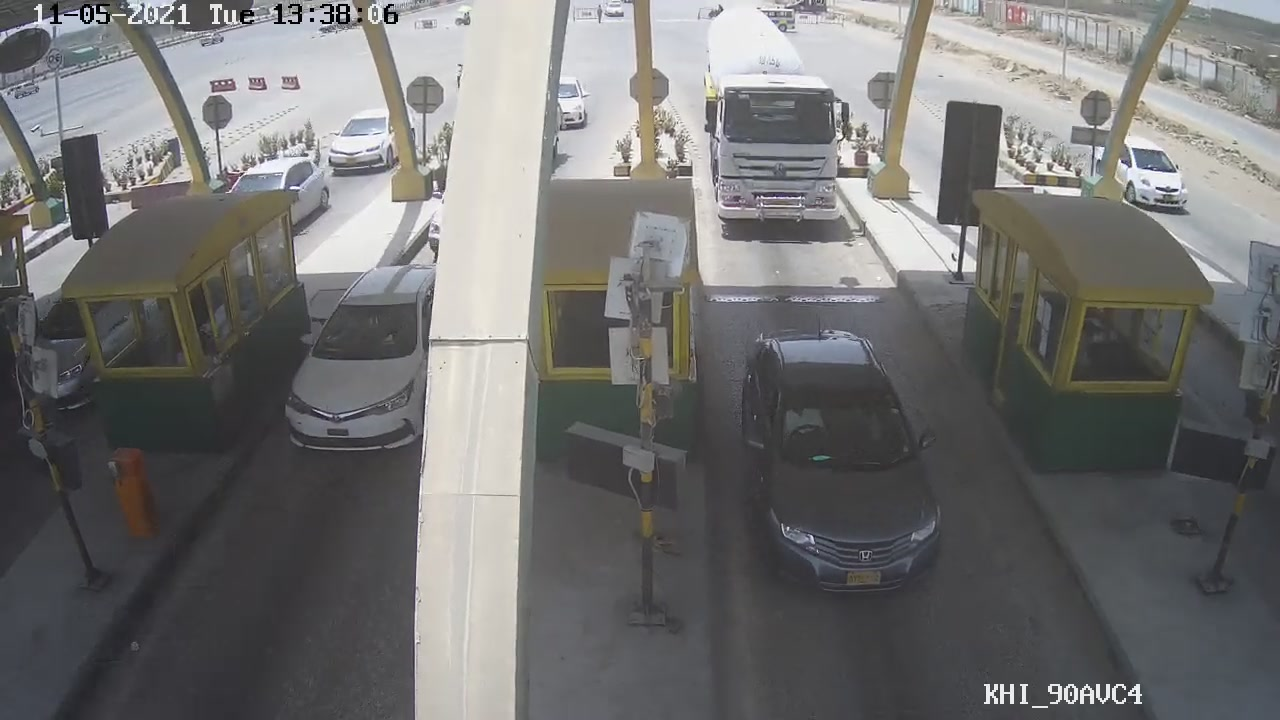F1: (737, 334, 946, 603)
F6: (698, 8, 854, 239)
